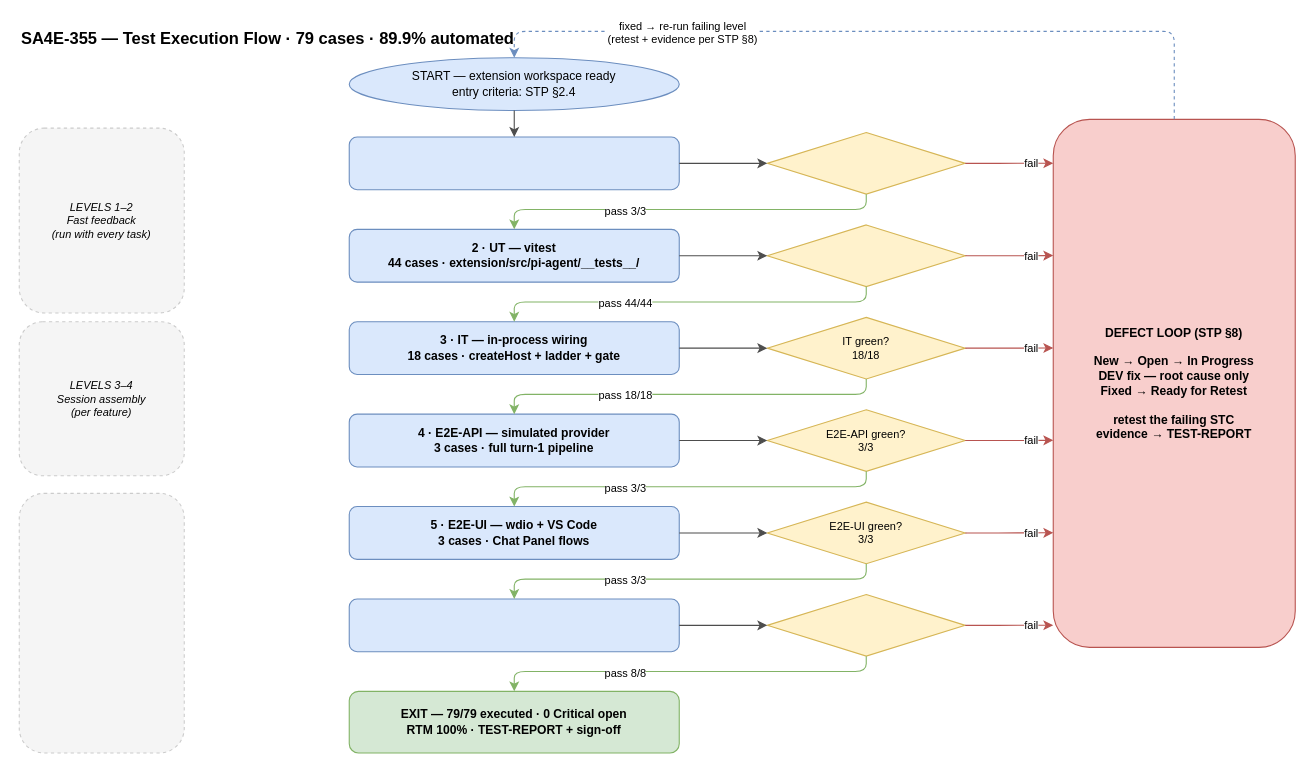
The diagram is 1315 pixels wide and 772 high, and some of its shapes have lost their labels. Here are the shapes that lost their labels. From the top down, the centre of each, then its label:
At pixel 513 163: "1 · PBT — fast-check 3 cases · resolver invariants".
At pixel 865 162: "PBT green? 3/3".
At pixel 865 255: "UT green? 44/44".
At pixel 101 622: "LEVELS 5–6 E2E + manual (acceptance)".
At pixel 513 625: "6 · SIT — manual 8 cases · real qwen + demos + reviews".
At pixel 865 624: "SIT signed? 8/8".
